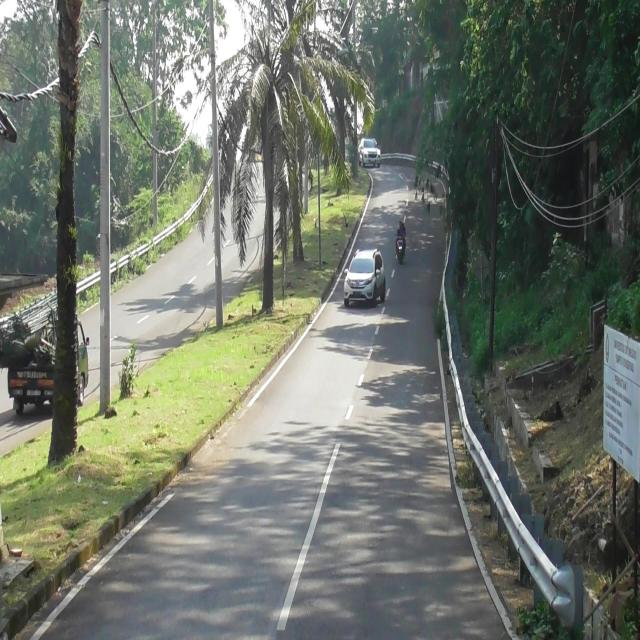motorcycle: (396, 233, 404, 264)
person: (397, 221, 405, 256), (402, 222, 406, 241)
rider_region: (395, 221, 407, 264)
